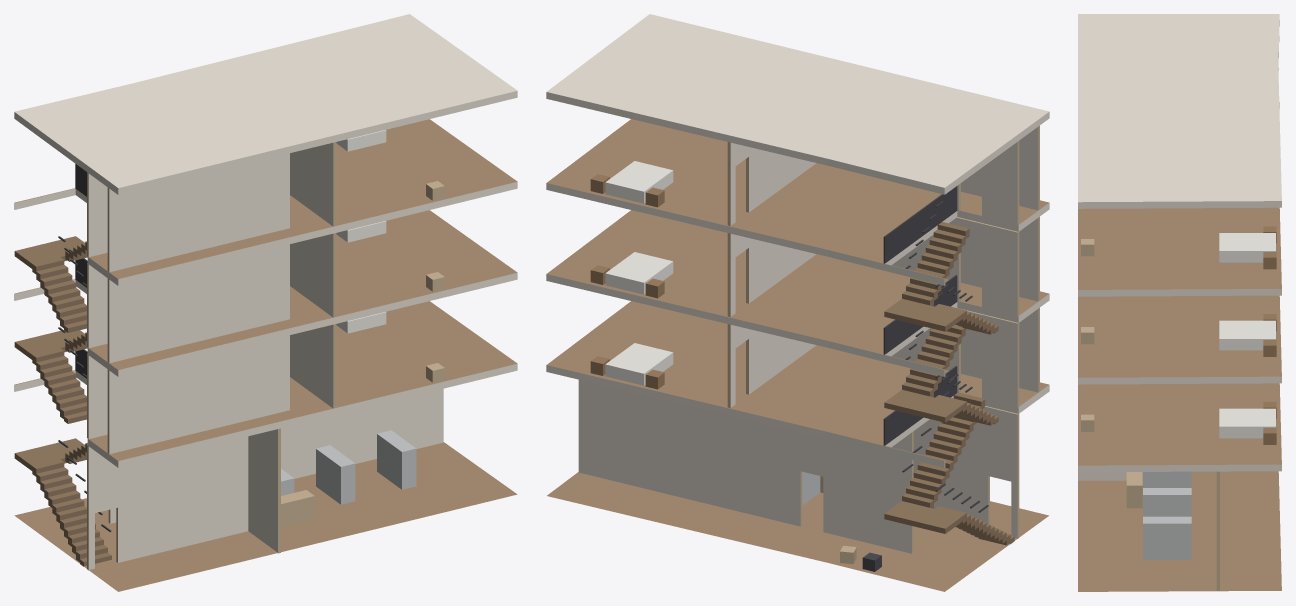
Rendered from interior.glb.
The picture shows the model from 3 angles, left to right: view 1: azimuth 30°, elevation 25°; view 2: azimuth 150°, elevation 25°; view 3: azimuth 270°, elevation 25°; orthographic projection. The views are drawn at different scales.
Parts seen in each view (by area): view 1: slabs, partitions, stair, coarse-s0, coarse-s3, coarse-s1, coarse-s2; view 2: slabs, partitions, stair, coarse-s2, coarse-s1, coarse-s3, coarse-s0; view 3: slabs, coarse-s0, coarse-s1, coarse-s2, coarse-s3, partitions.
Boxes of the visible parts, <box> form: slabs: <box>14,14,517,591</box>; partitions: <box>87,142,443,570</box>; stair: <box>14,164,111,566</box>; coarse-s0: <box>281,430,416,527</box>; coarse-s3: <box>336,130,444,200</box>; coarse-s1: <box>336,312,444,382</box>; coarse-s2: <box>336,221,444,291</box>; slabs: <box>546,14,1049,591</box>; partitions: <box>578,125,1039,553</box>; stair: <box>883,186,1014,545</box>; coarse-s2: <box>590,252,673,298</box>; coarse-s1: <box>590,343,673,389</box>; coarse-s3: <box>590,161,673,207</box>; coarse-s0: <box>802,471,881,571</box>; slabs: <box>1078,14,1281,591</box>; coarse-s0: <box>1126,471,1191,559</box>; coarse-s1: <box>1081,401,1276,444</box>; coarse-s2: <box>1081,314,1276,356</box>; coarse-s3: <box>1081,226,1276,269</box>; partitions: <box>1078,471,1219,590</box>.
Size of the model in its own units: 15.71 by 15.19 by 7.19.
